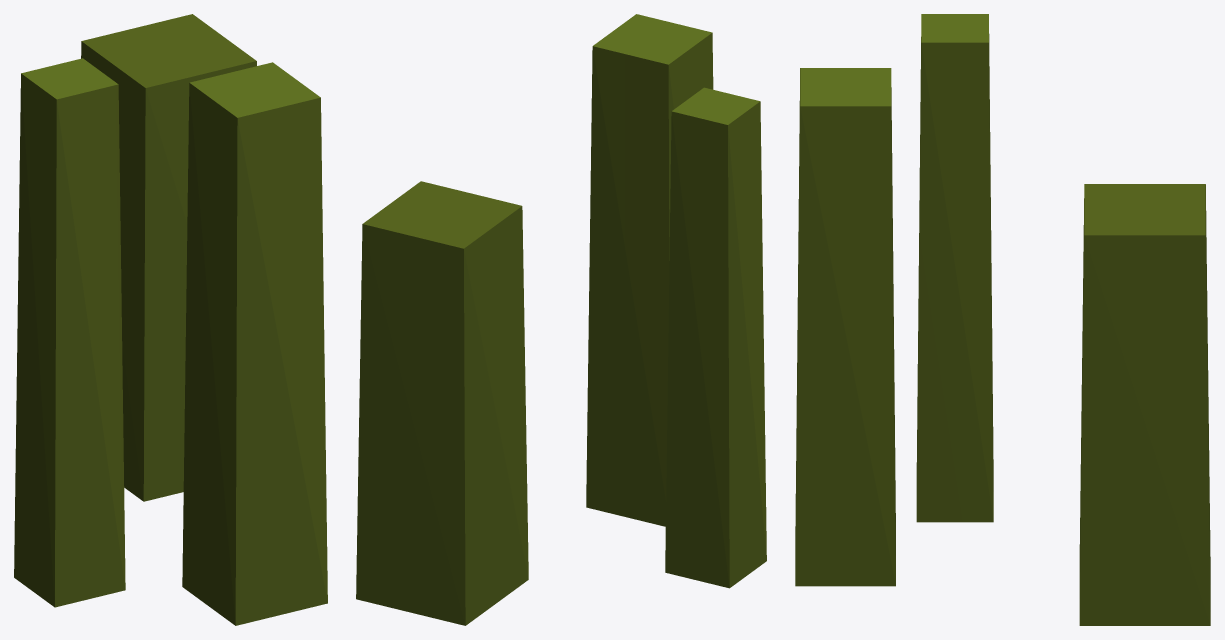
The model's file is angular_grass_a.glb.
The picture shows the model from 3 angles, left to right: view 1: azimuth 30°, elevation 25°; view 2: azimuth 150°, elevation 25°; view 3: azimuth 270°, elevation 25°; orthographic projection. The views are drawn at different scales.
Size of the model in its own units: 0.214 by 0.35 by 0.2757.
